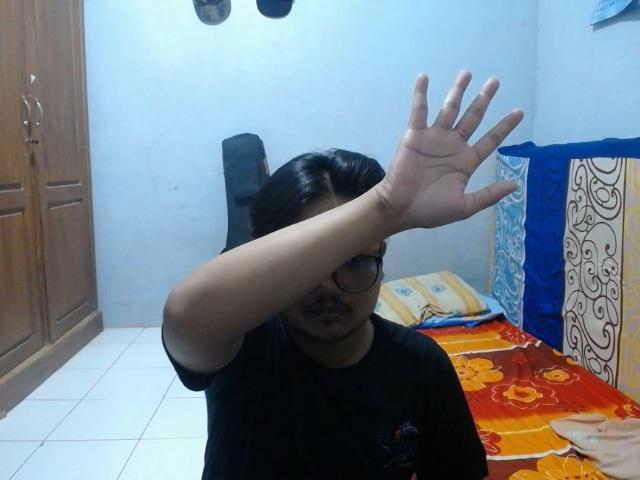Release: (371, 63, 530, 234)
